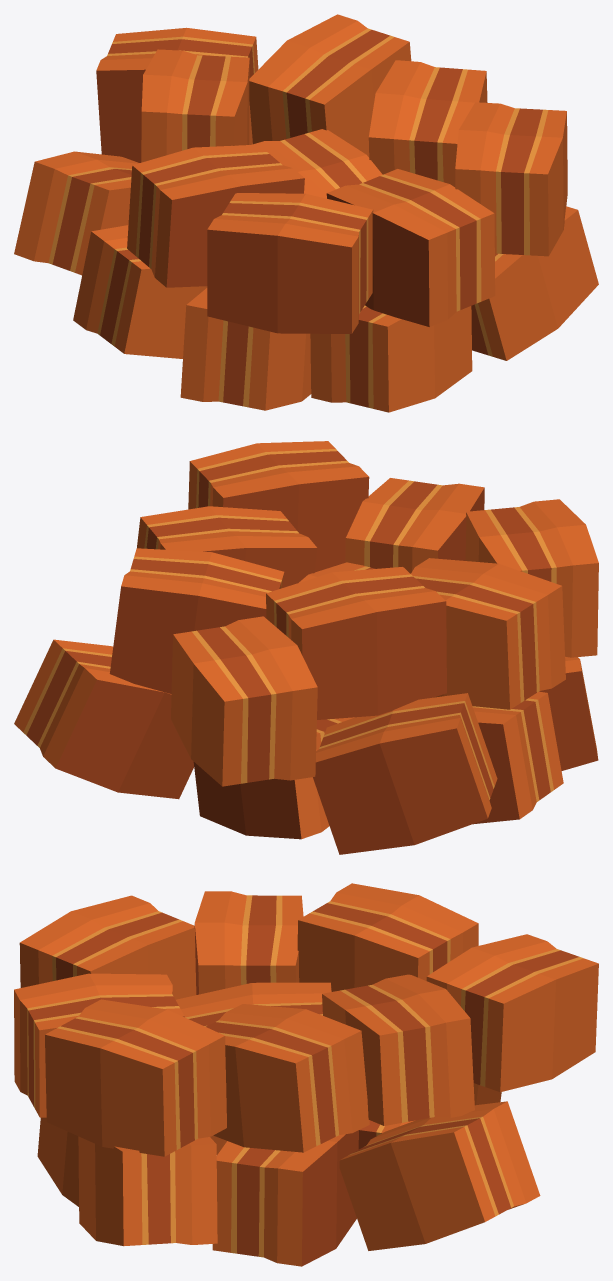
Rendered from Adobong bisaya.fbx.
The picture shows the model from 3 angles, top to bottom: view 1: azimuth 30°, elevation 25°; view 2: azimuth 150°, elevation 25°; view 3: azimuth 270°, elevation 25°; orthographic projection. The views are drawn at different scales.
Parts seen in each view (by area): view 1: Adobong Bisaya; view 2: Adobong Bisaya; view 3: Adobong Bisaya.
Boxes of the visible parts, x1,y1,x2,y2 form: Adobong Bisaya: [14, 14, 598, 412]; Adobong Bisaya: [14, 441, 598, 854]; Adobong Bisaya: [14, 883, 598, 1266].
Bounding box in the file's own units: 64.13 × 35.19 × 72.08.
